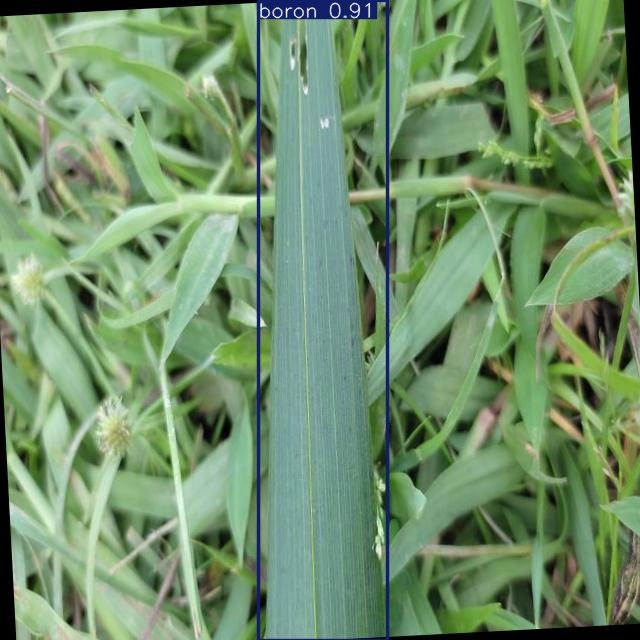nitrogen: (258, 0, 388, 640)
